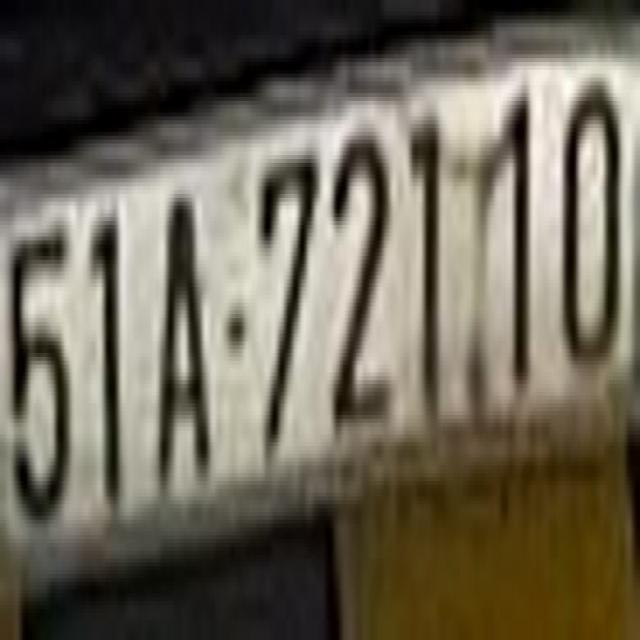0: (557, 54, 623, 392)
1: (407, 77, 454, 419), (87, 186, 131, 516), (493, 78, 536, 404)
2: (330, 93, 396, 427)
5: (5, 210, 70, 528)
7: (255, 124, 320, 458)
A: (151, 152, 214, 496)
